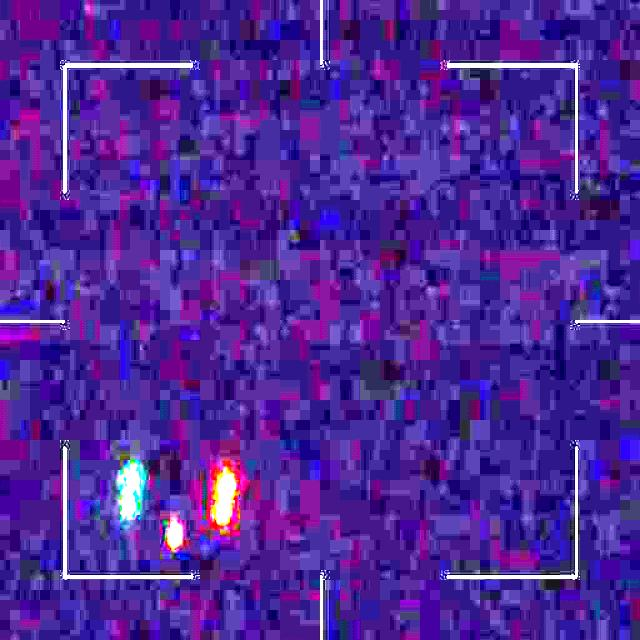bird: (114, 464, 238, 550)
